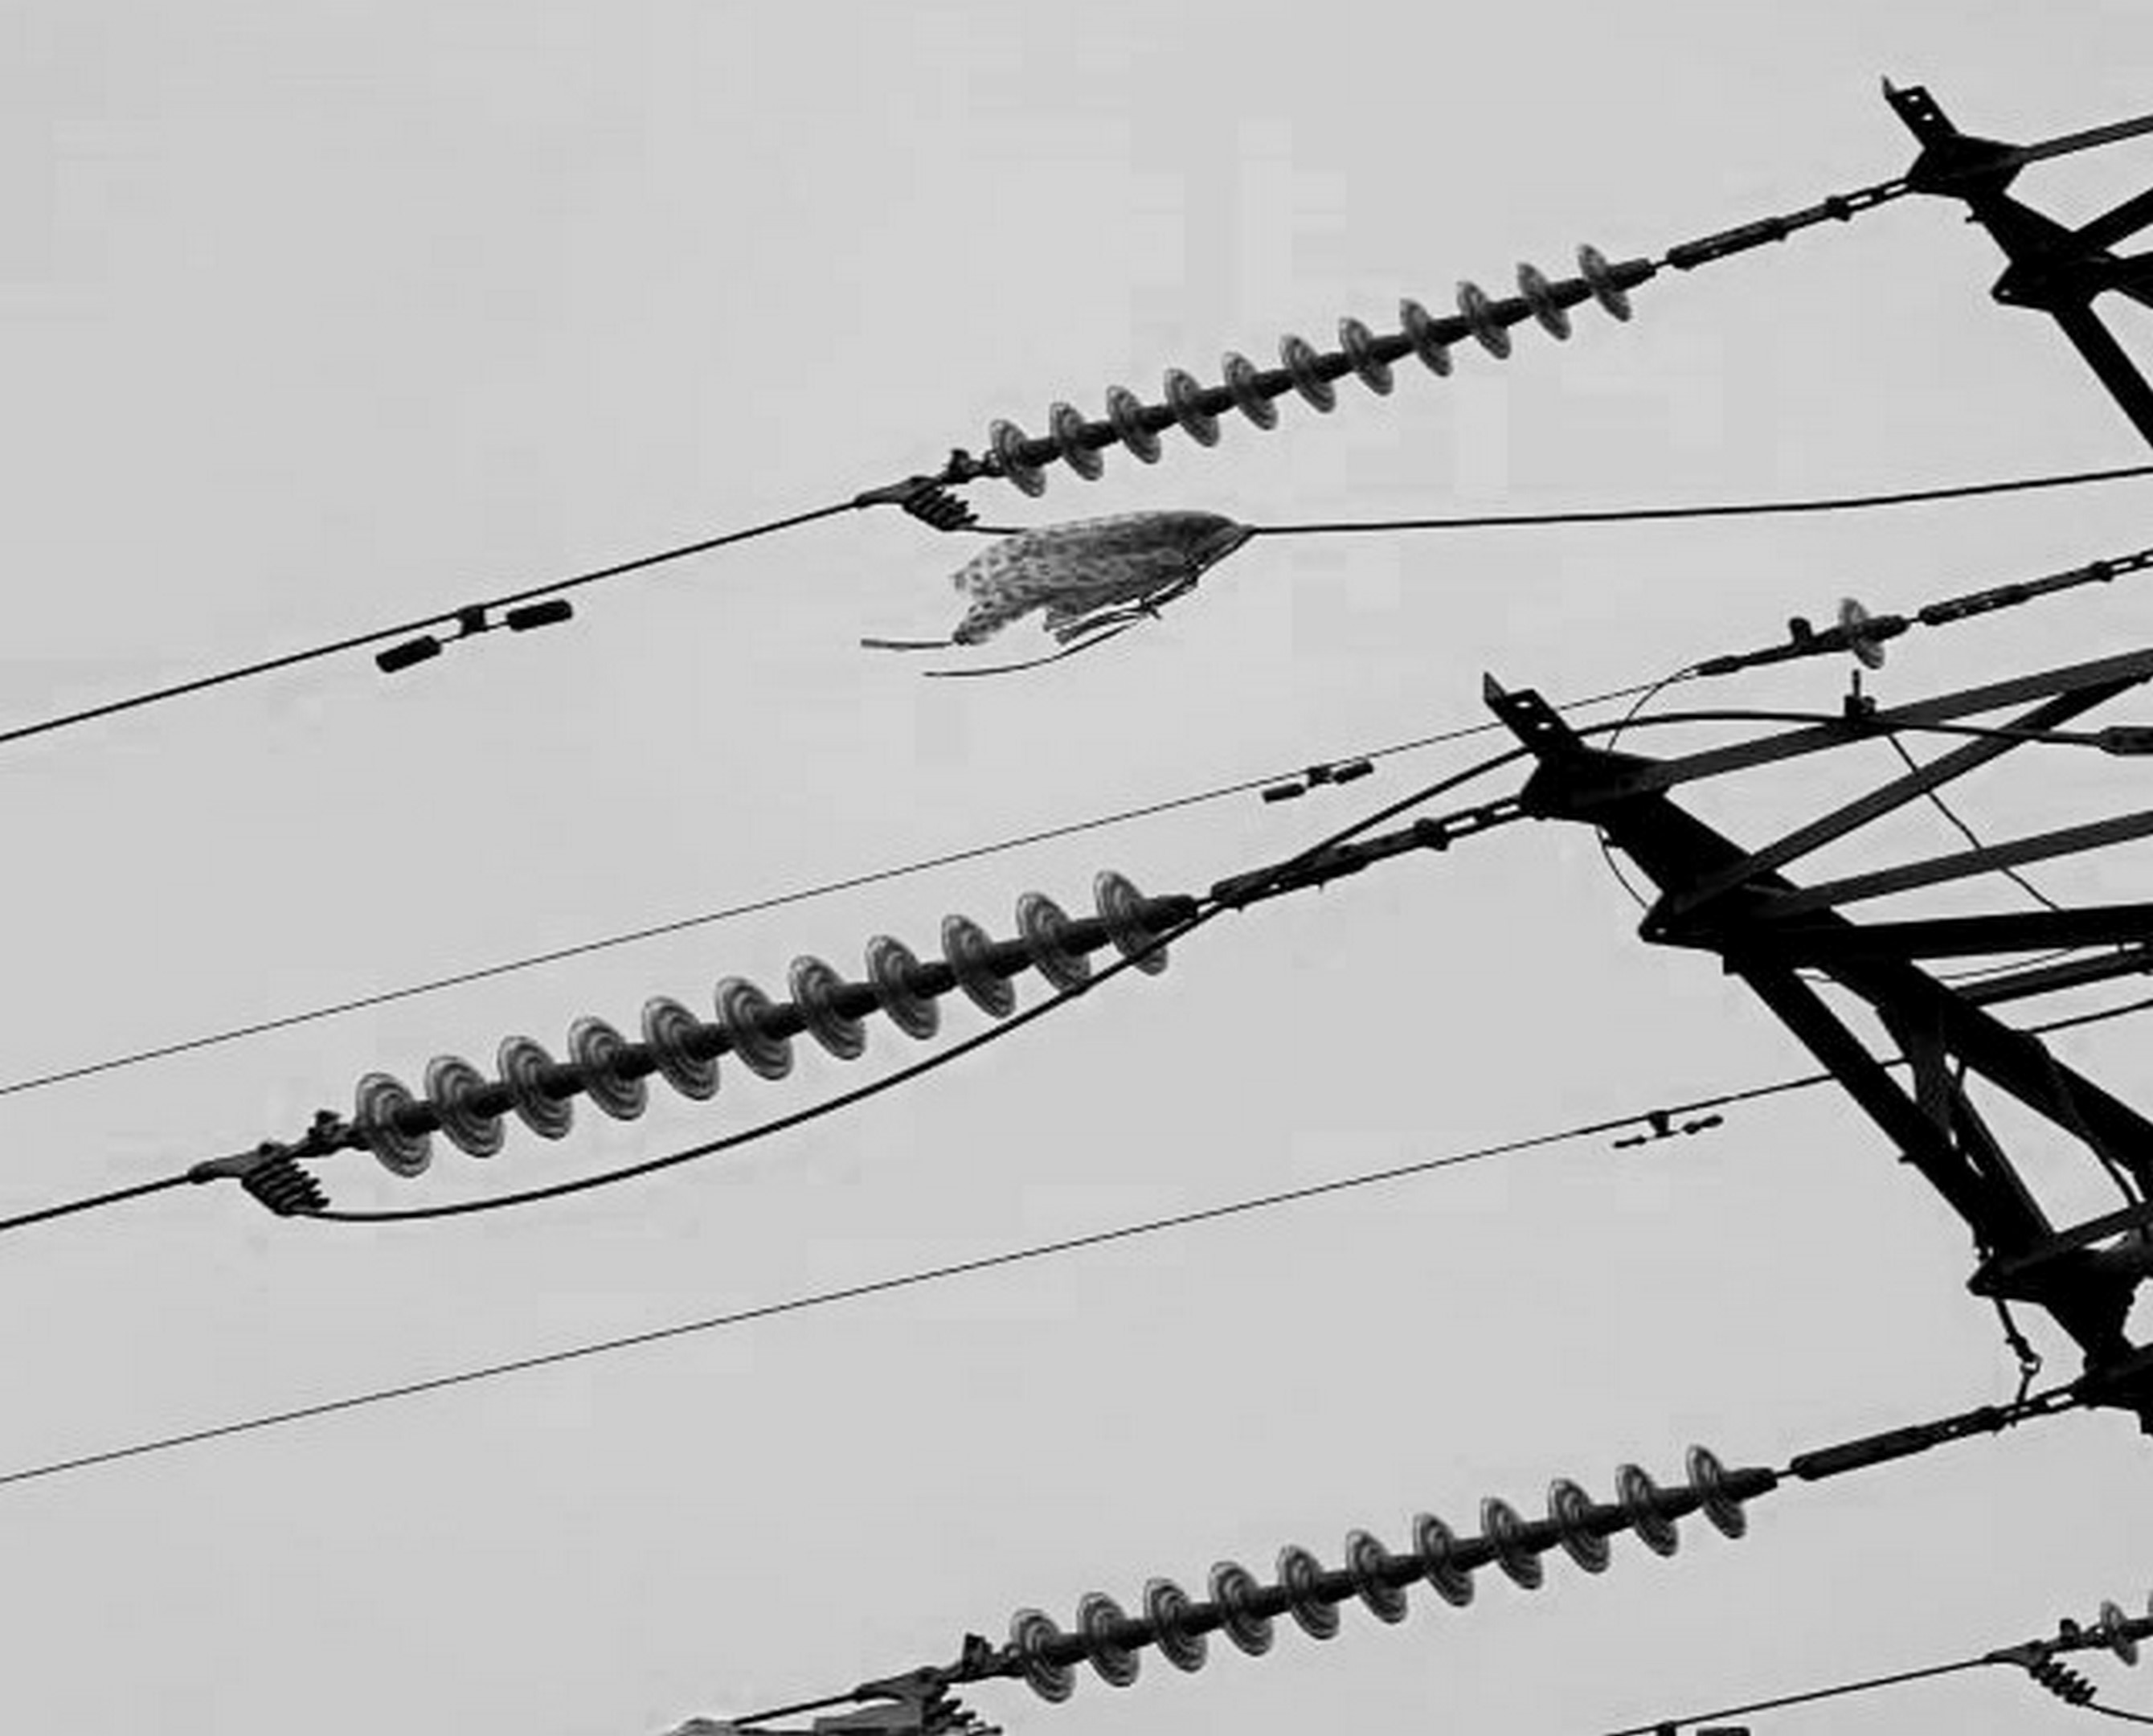wire foreign body: (846, 496, 1280, 709)
